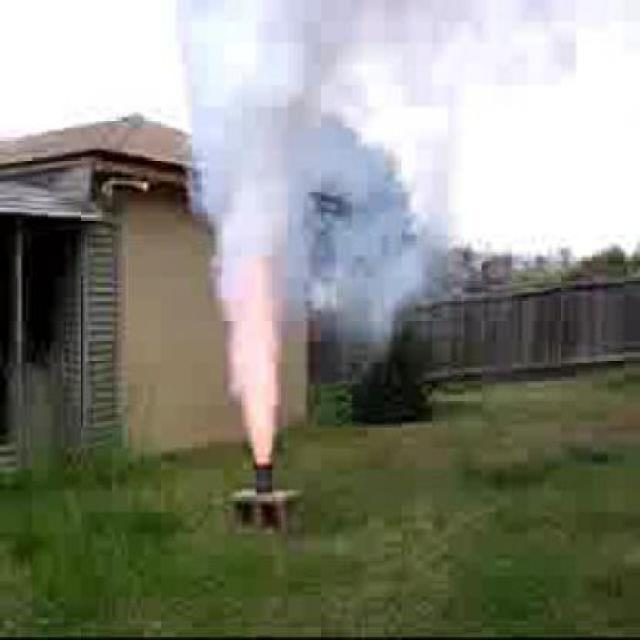Smoke: (163, 0, 309, 463), (312, 0, 444, 379), (442, 0, 619, 88)
